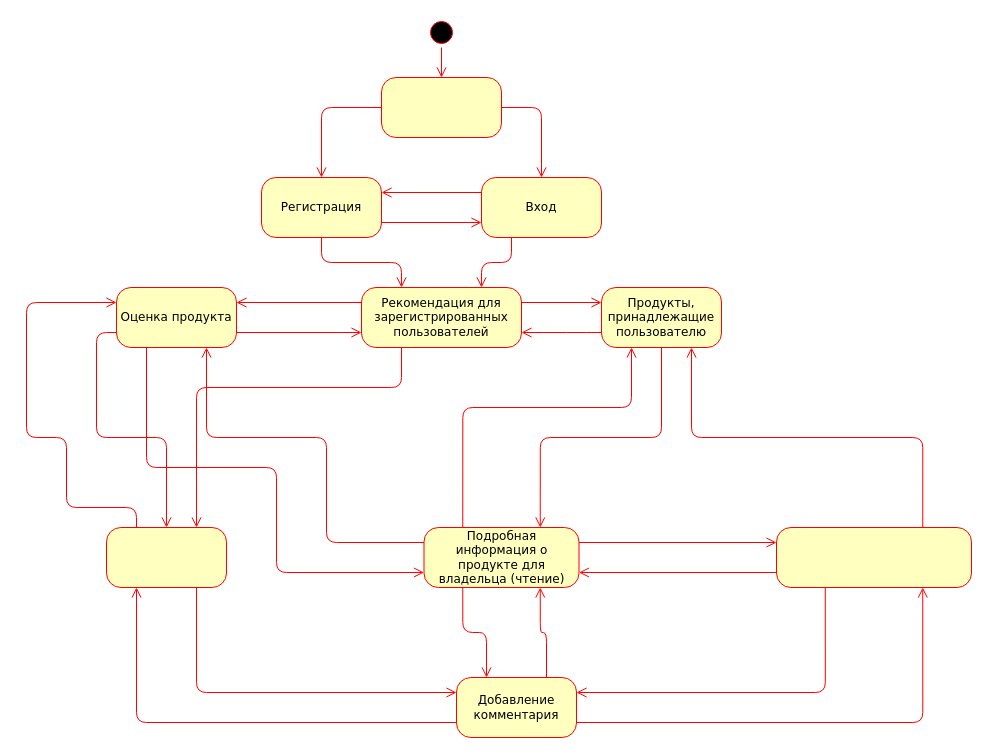
Image size: 989x755. Some labels were removed from this diagram. Each missing label, with the centre of its shape:
Подробная информация о продукте: the point at 166,557
Подробная информация о продукте для владельца(редактирование): the point at 874,557
Рекомендация для анонимных пользователей: the point at 441,107
